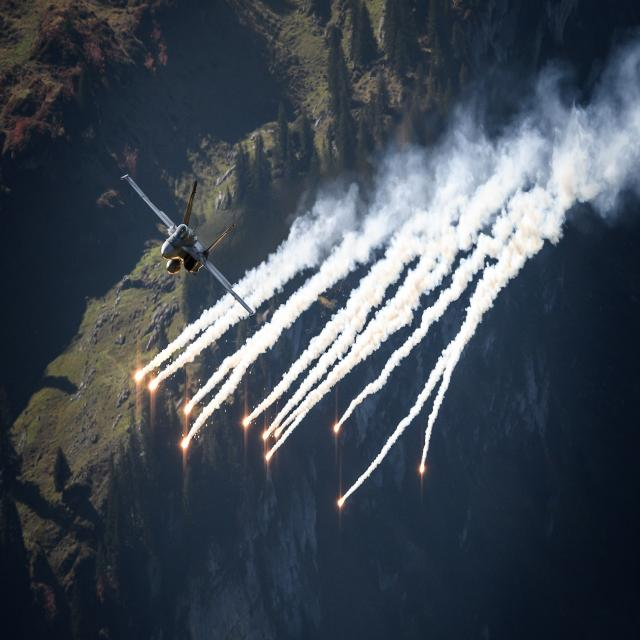MIL_Plane: (120, 174, 255, 318)
